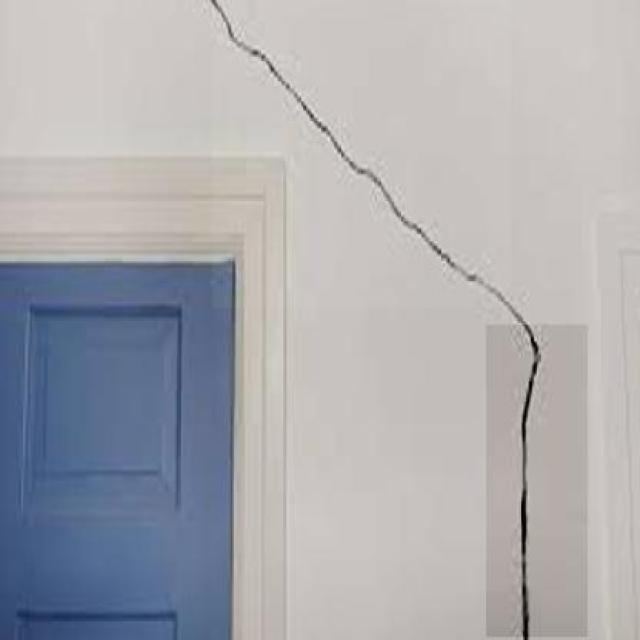Crack: (230, 0, 597, 297), (497, 299, 599, 640)
